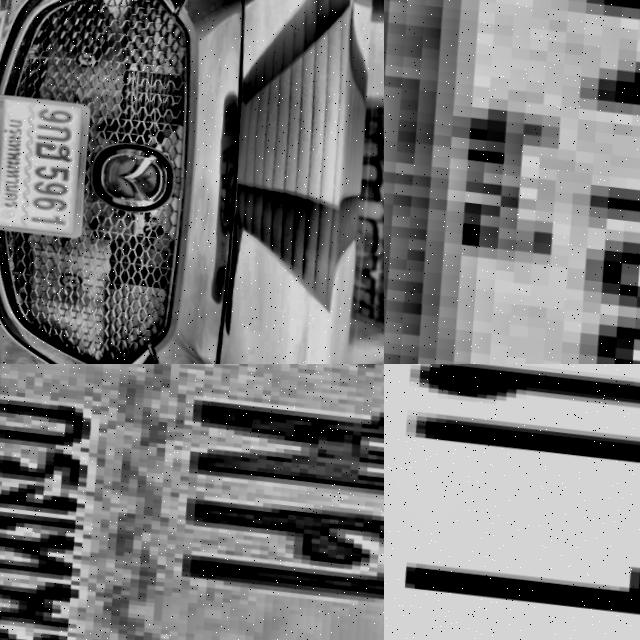license-plate: (0, 364, 384, 640), (384, 0, 640, 364), (384, 364, 640, 640), (0, 86, 101, 243)
